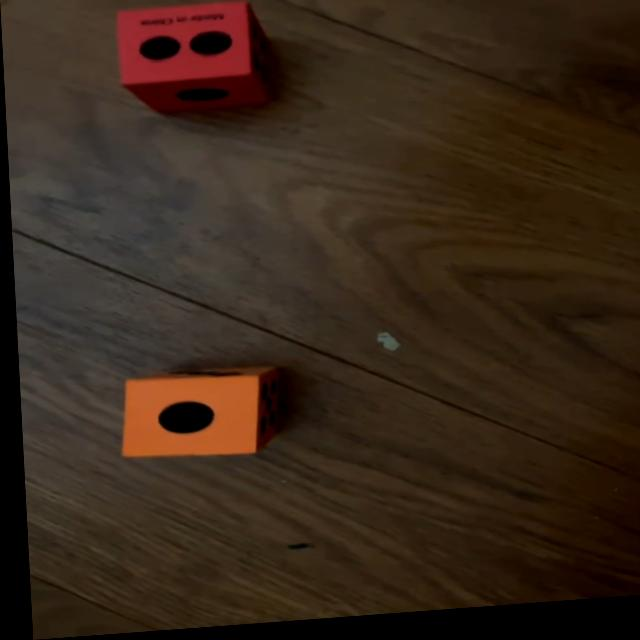red_block: (114, 2, 269, 117)
